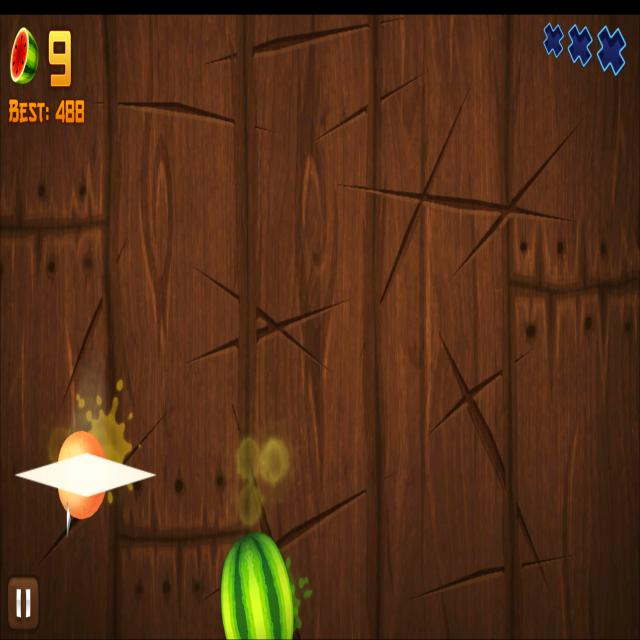fruit: (219, 530, 299, 640), (57, 430, 106, 521)
